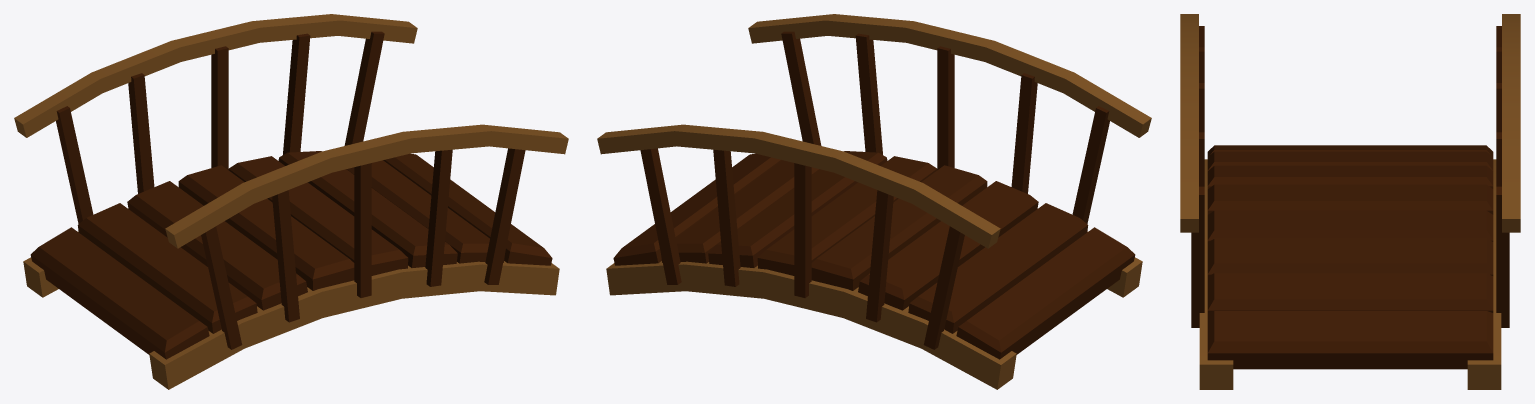
File: Bridge002.FBX
3 renders of one model, left to right at view 1: azimuth 30°, elevation 25°; view 2: azimuth 150°, elevation 25°; view 3: azimuth 270°, elevation 25°, orthographic. The views are drawn at different scales.
Parts seen in each view (by area): view 1: Box002; view 2: Box002; view 3: Box002.
Boxes of the visible parts, left/top/right/bottom form: Box002: left=14, top=14, right=568, bottom=389; Box002: left=597, top=14, right=1151, bottom=389; Box002: left=1180, top=14, right=1520, bottom=389.
Size of the model in its own units: 72.4 by 35.28 by 50.82.
